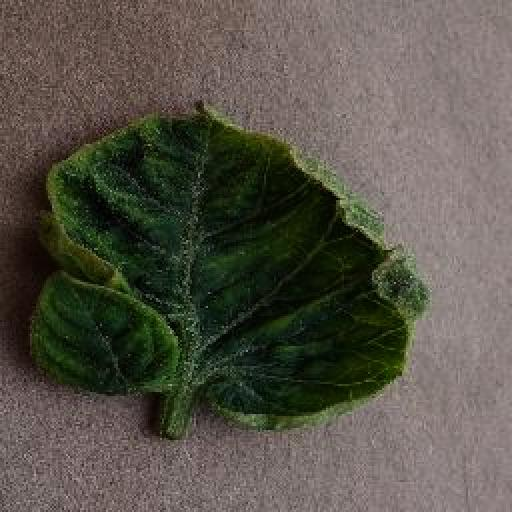disease_tomato: (43, 94, 431, 434), (23, 262, 179, 398)
